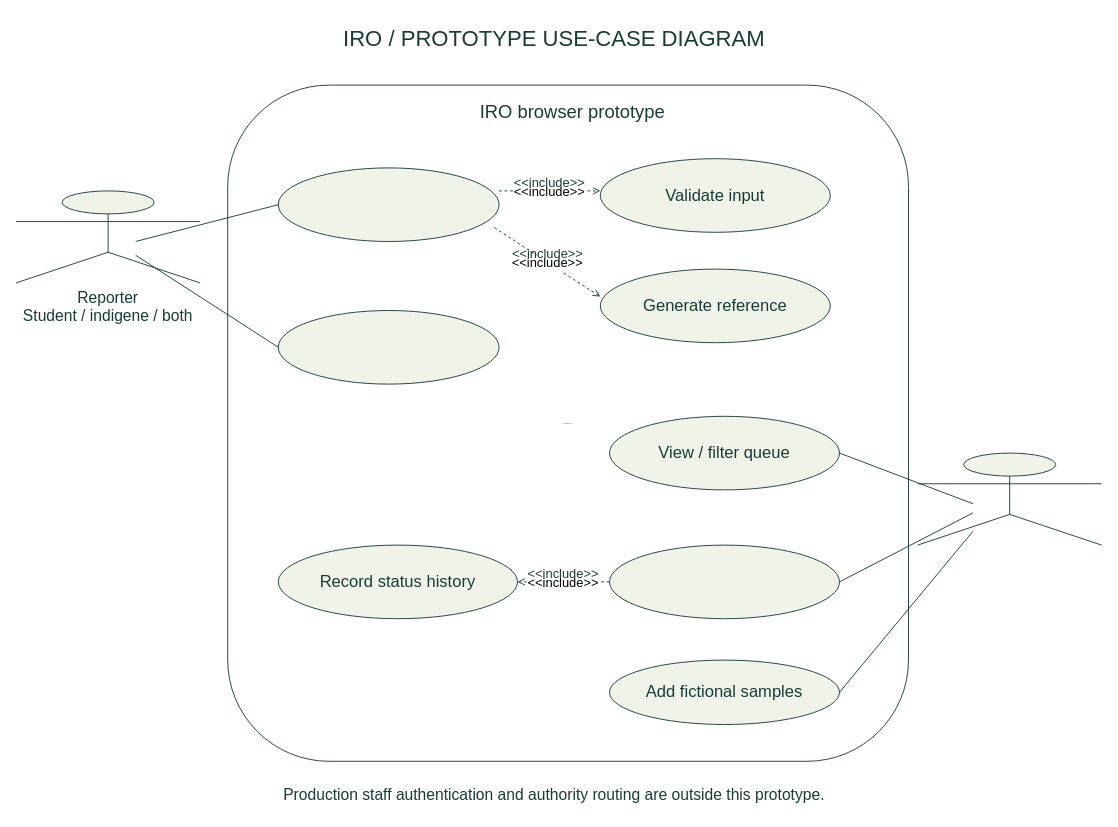
This 1118x827 diagram has some shape labels left out. Each missing label, with the centre of its shape:
Staff-demo user Unrestricted demonstration: (x=1009, y=498)
Submit issue: (x=388, y=204)
Track issue: (x=388, y=347)
Update status: (x=724, y=581)
